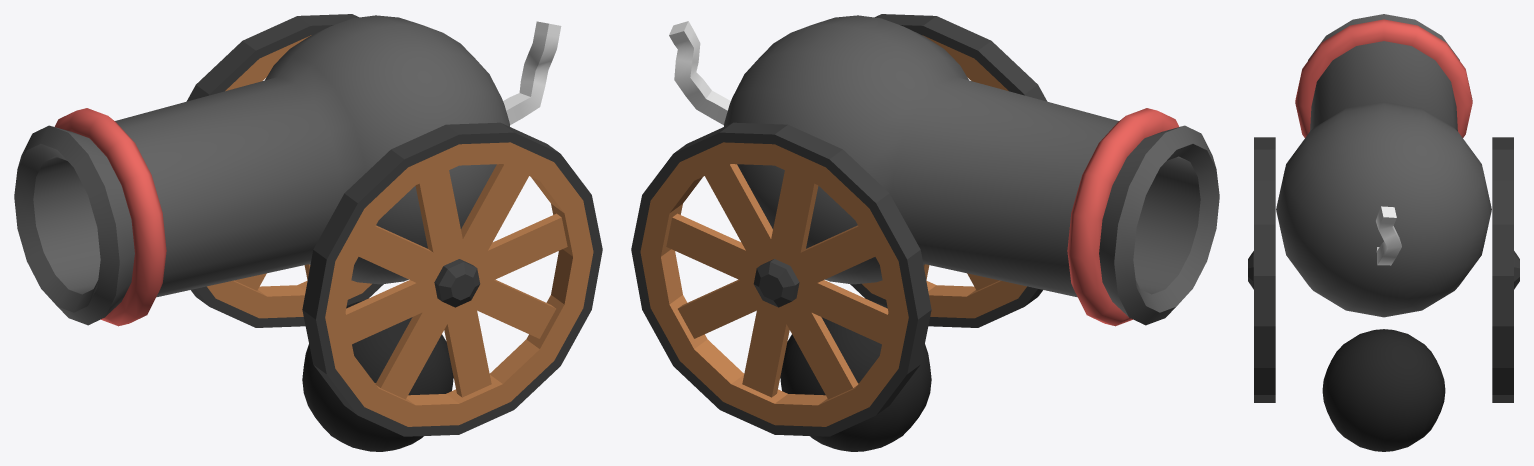
3 views of the same model, side by side, from view 1: azimuth 30°, elevation 25°; view 2: azimuth 150°, elevation 25°; view 3: azimuth 270°, elevation 25° (orthographic). The views are drawn at different scales.
Parts seen in each view (by area): view 1: Cannon_Base, Wheels, Cannon_Ball; view 2: Cannon_Base, Wheels, Cannon_Ball; view 3: Cannon_Base, Wheels, Cannon_Ball.
Boxes of the visible parts, x1,y1,x2,y2 form: Cannon_Base: (14,15,561,326); Wheels: (186,14,602,436); Cannon_Ball: (302,300,453,451); Cannon_Base: (669,15,1219,326); Wheels: (631,14,1047,436); Cannon_Ball: (780,300,931,451); Cannon_Base: (1276,14,1491,317); Wheels: (1248,137,1519,402); Cannon_Ball: (1322,329,1445,451).
Size of what is drawn, in the model's own units: 0.7407 by 0.5862 by 0.4315.
